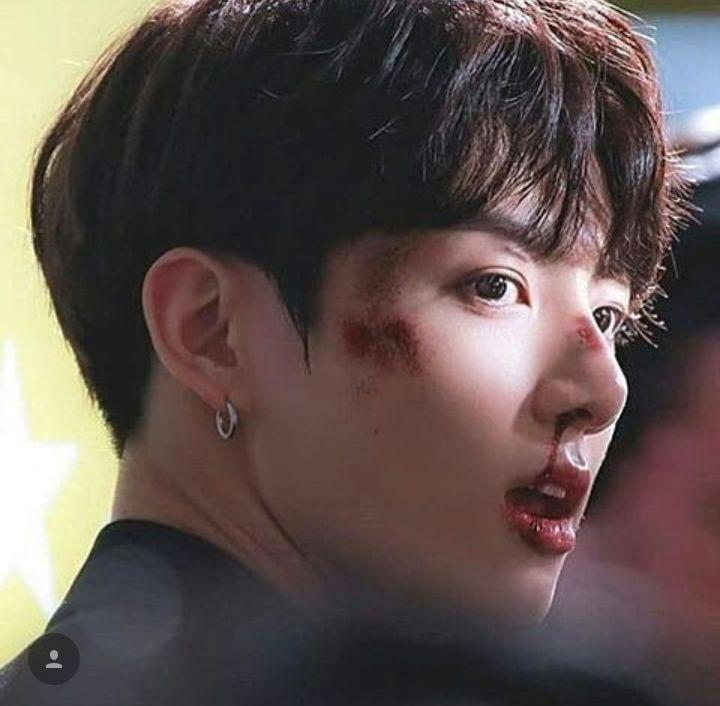Fire: (515, 309, 615, 568), (320, 232, 438, 398)
